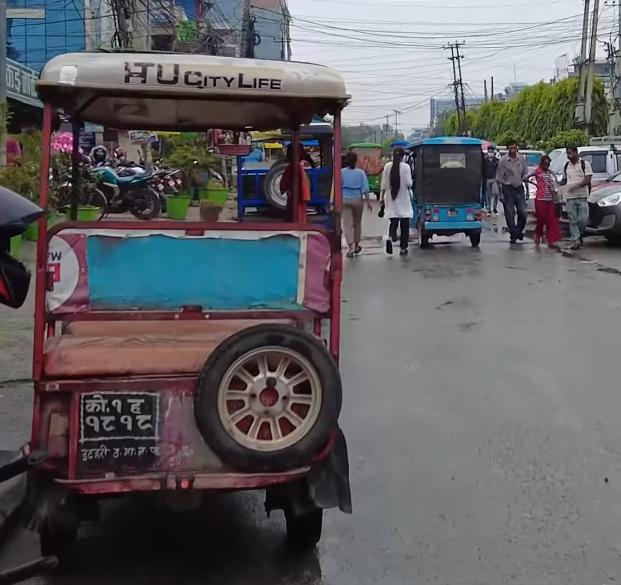e-rickshaw: (22, 37, 334, 550), (402, 128, 494, 264)
